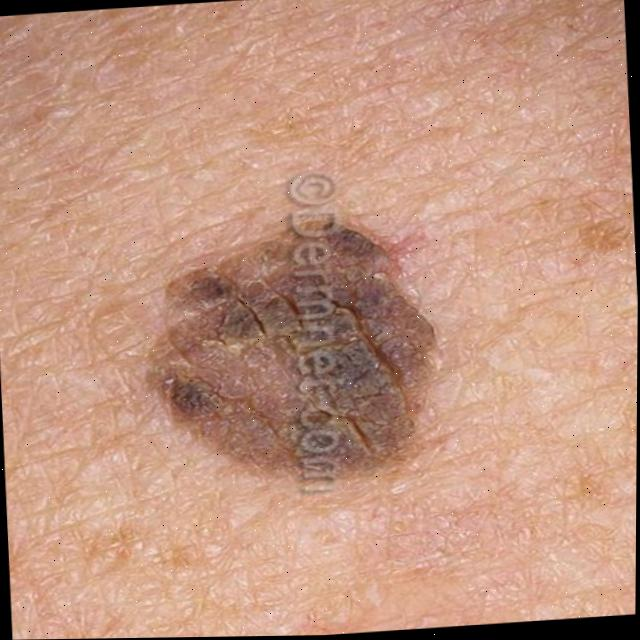Eczema: (204, 228, 430, 480)
